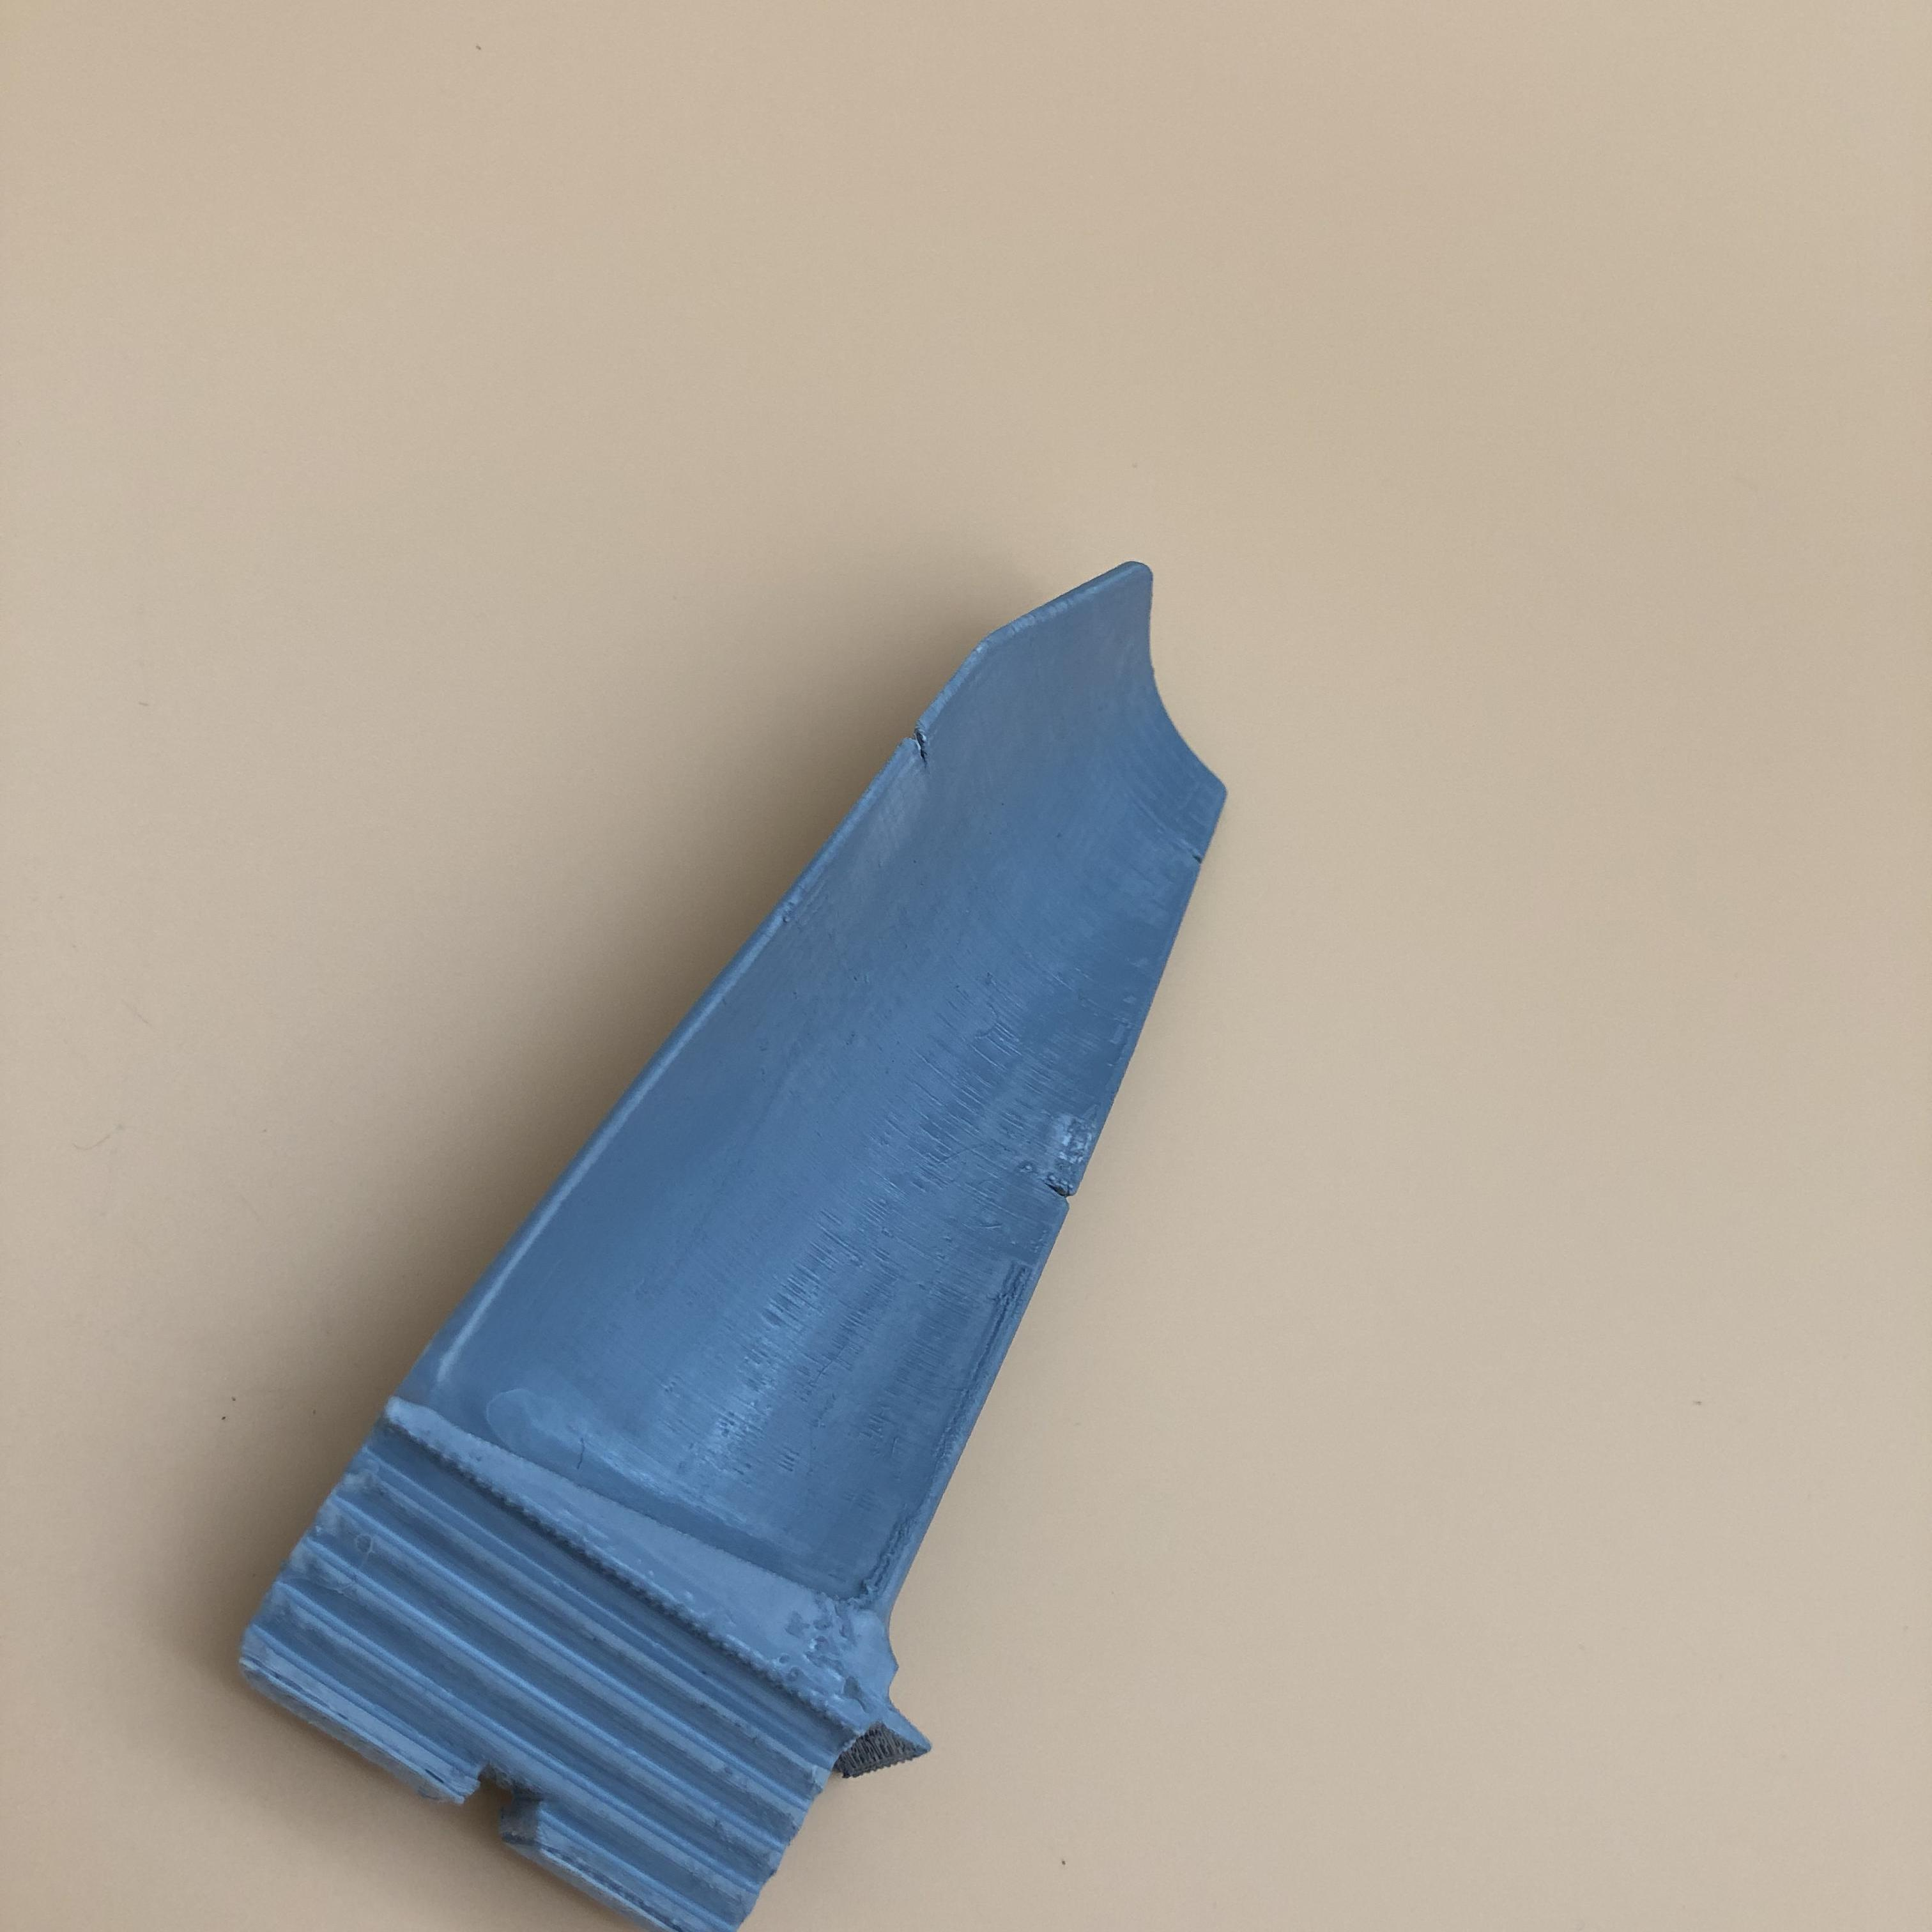groove: (1039, 1162, 1090, 1207), (902, 727, 941, 770)
